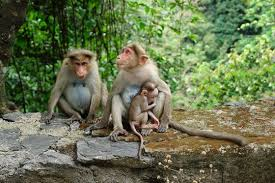monkey: (111, 45, 199, 130), (36, 43, 111, 122)
